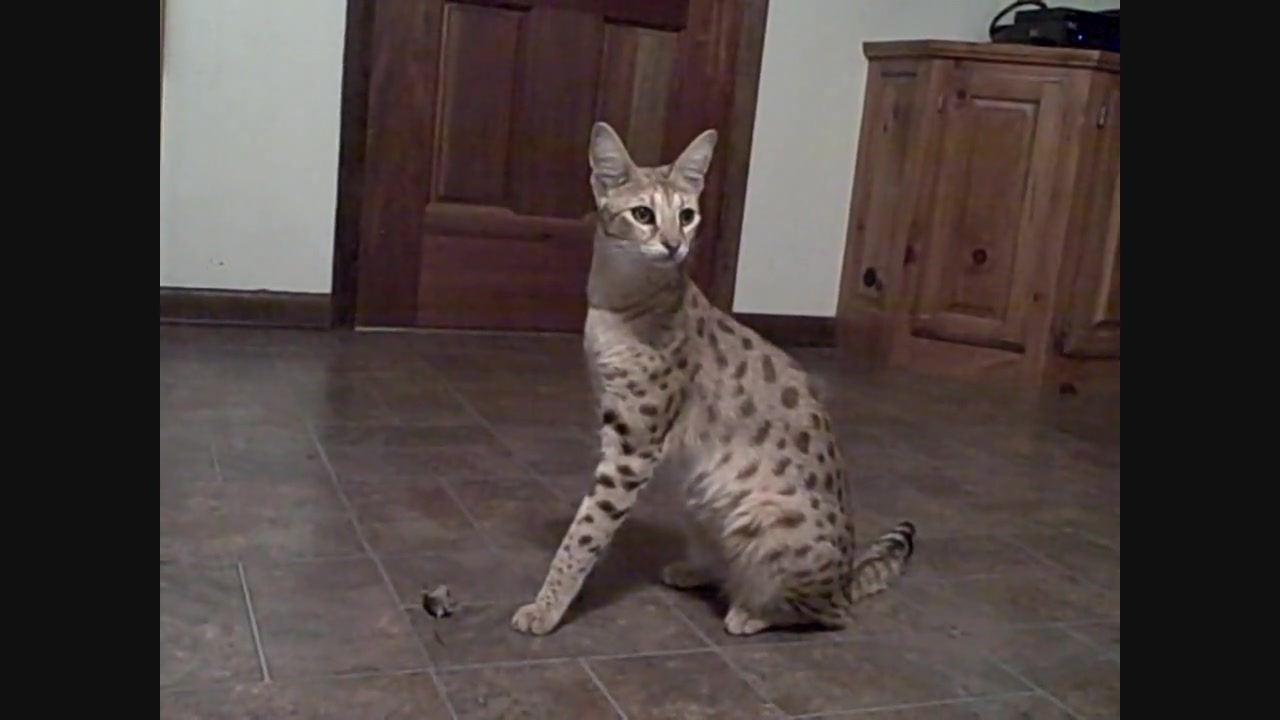cat: (511, 122, 921, 645)
